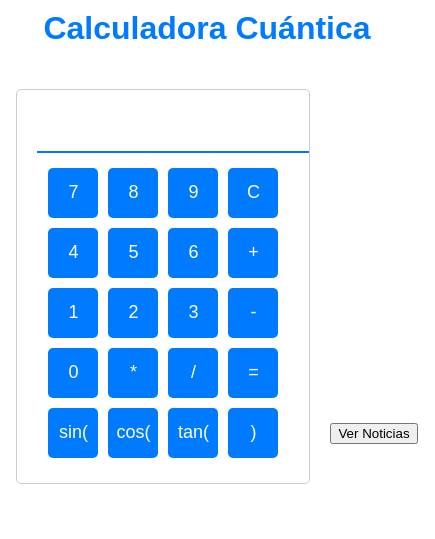
Test: performs basic addition
// Ingresa los números y realiza la suma
Click the button "1": (73, 313) [48,288,98,338]
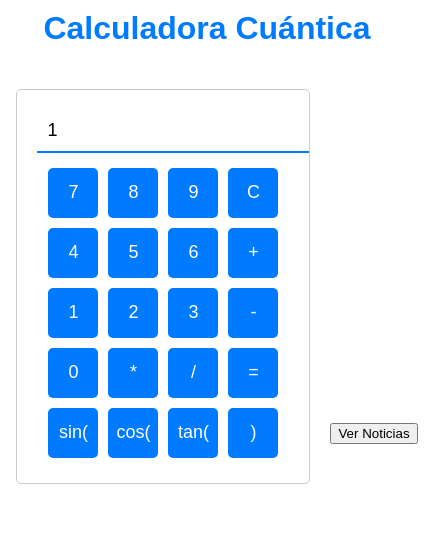
Click the button "+": (253, 253) [228,228,278,278]
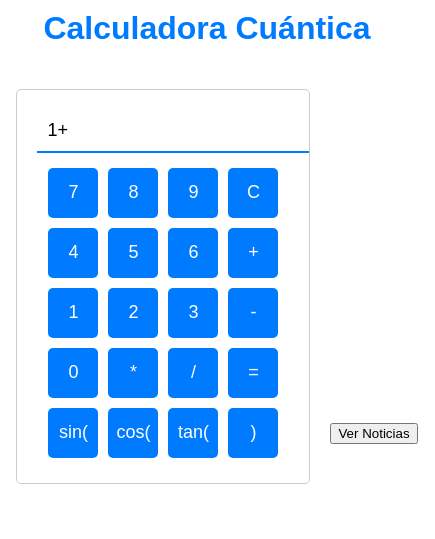
Click the button "2": (133, 313) [108,288,158,338]
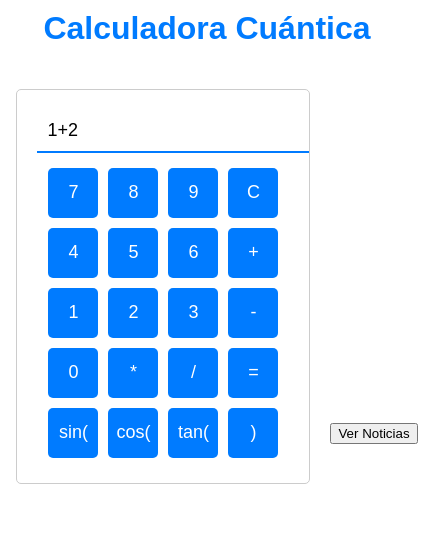
Click the button "=": (253, 373) [228,348,278,398]
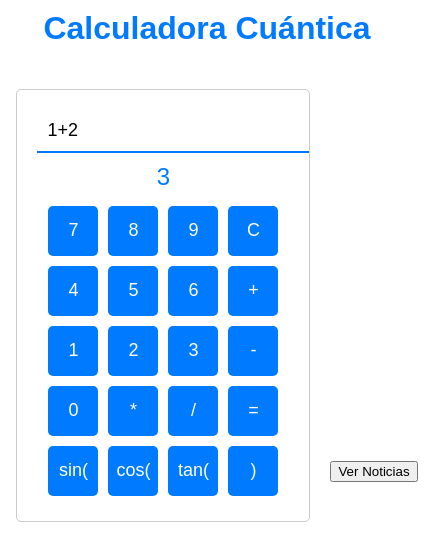
Result: the text with test id "result" reads "3" at [157,163,170,190]
